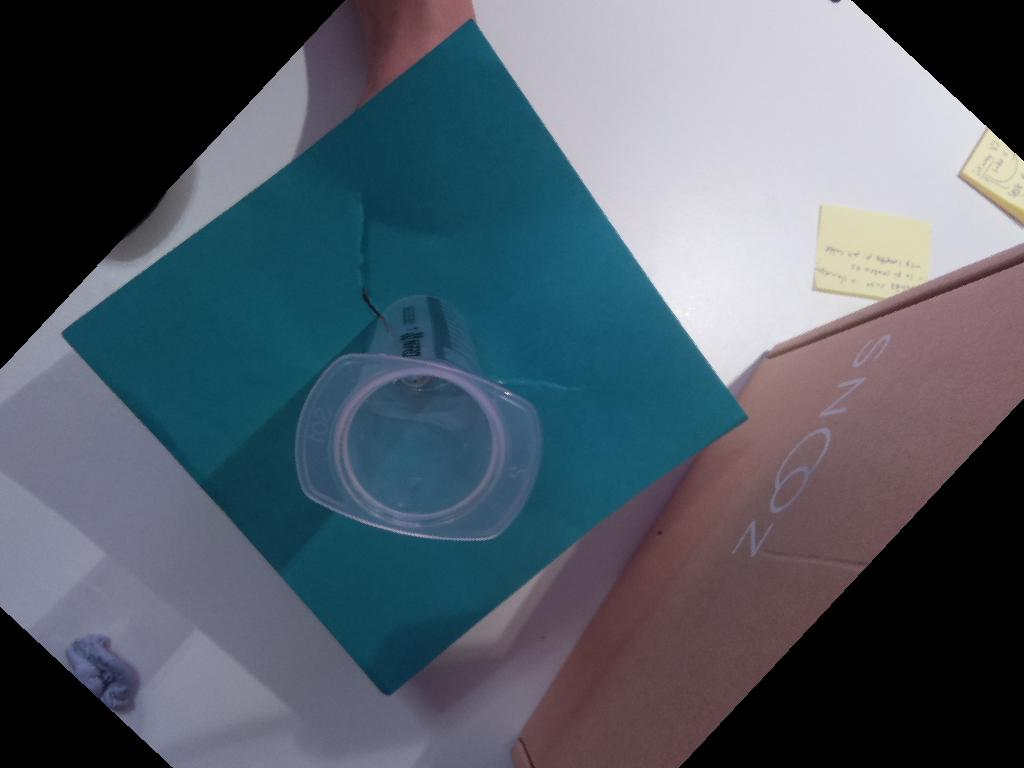clean: (295, 354, 544, 543)
